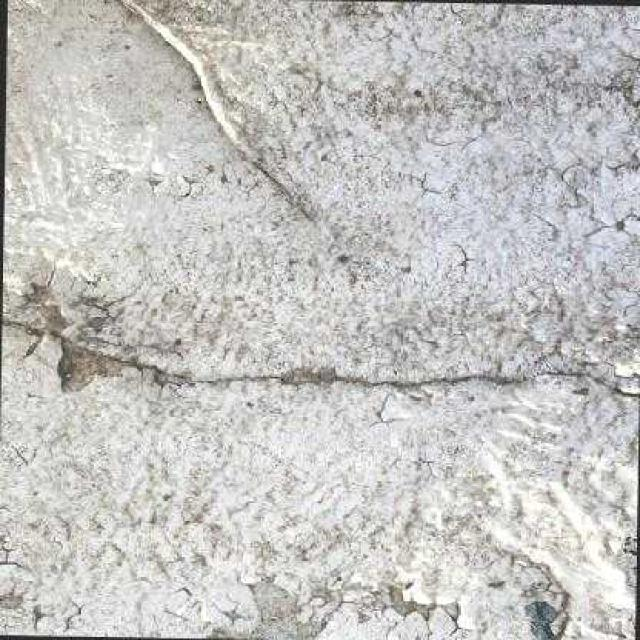D00: (1, 311, 639, 404), (102, 0, 323, 229)
